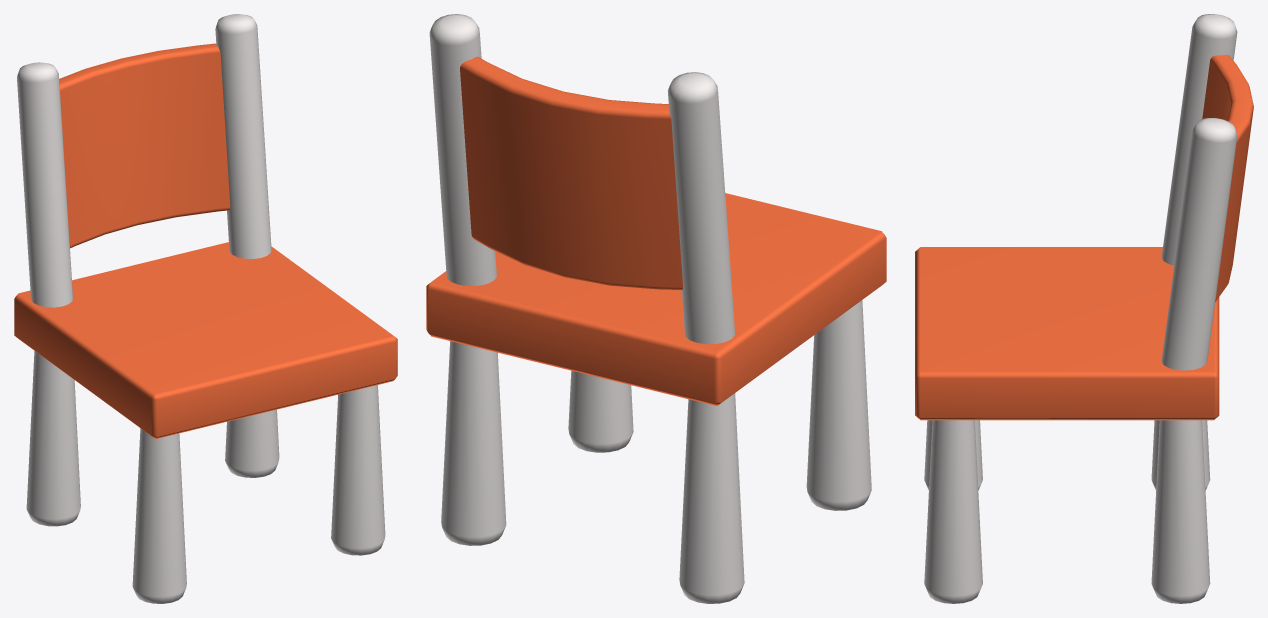
The model's file is Town_3_Chair_1.glb.
3 renders of one model, left to right at view 1: azimuth 30°, elevation 25°; view 2: azimuth 150°, elevation 25°; view 3: azimuth 270°, elevation 25°, orthographic. The views are drawn at different scales.
Visible parts, largest first — view 1: Town_3_Chair_1; view 2: Town_3_Chair_1; view 3: Town_3_Chair_1.
Part boxes in pixels (x1,y1,x2,y2): Town_3_Chair_1: [14, 14, 397, 603]; Town_3_Chair_1: [426, 14, 886, 603]; Town_3_Chair_1: [915, 14, 1253, 603].
Size of the model in its own units: 0.6005 by 1.03 by 0.667.
1 material, 1 textured.
